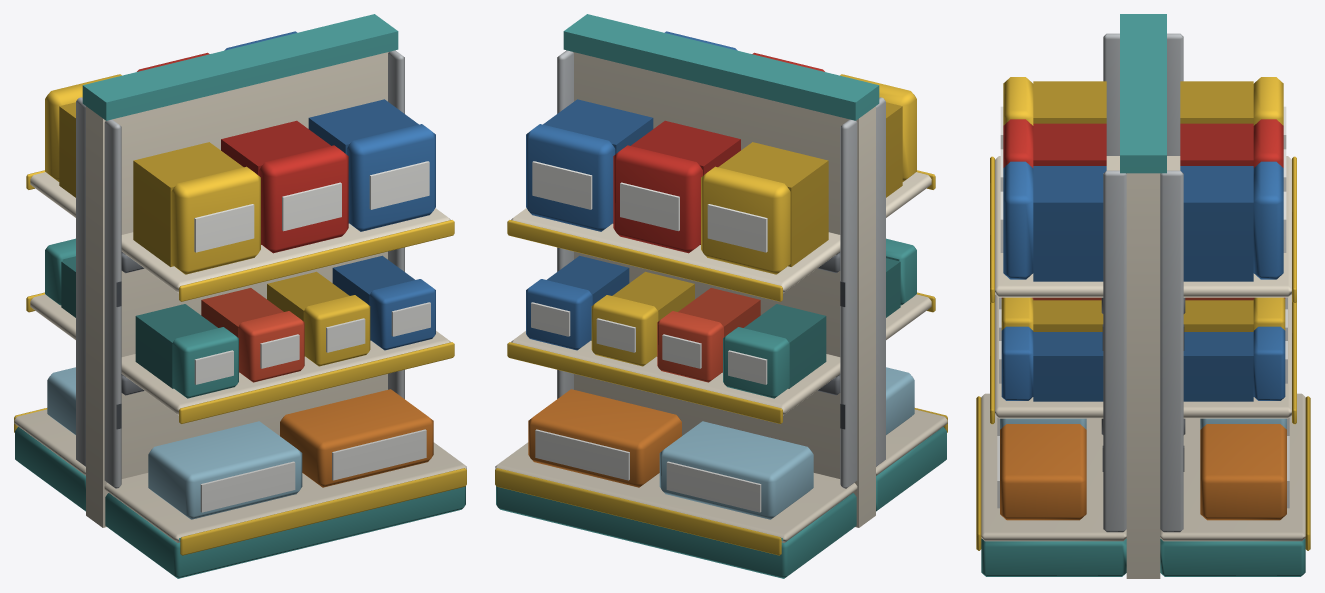
Rendered from Gondola_Island_Low_10_Stocked.glb.
3 renders of one model, left to right at view 1: azimuth 30°, elevation 25°; view 2: azimuth 150°, elevation 25°; view 3: azimuth 270°, elevation 25°, orthographic.
Parts seen in each view (by area): view 1: SM_Gondola_Island_Low_10_Stocked; view 2: SM_Gondola_Island_Low_10_Stocked; view 3: SM_Gondola_Island_Low_10_Stocked.
Boxes of the visible parts, box(x1,y1,x2,y2) form: SM_Gondola_Island_Low_10_Stocked: box(14, 14, 466, 578); SM_Gondola_Island_Low_10_Stocked: box(495, 14, 947, 578); SM_Gondola_Island_Low_10_Stocked: box(976, 14, 1310, 578).
Size of the model in its own units: 1 by 1.4 by 1.
1 material, 1 textured.
